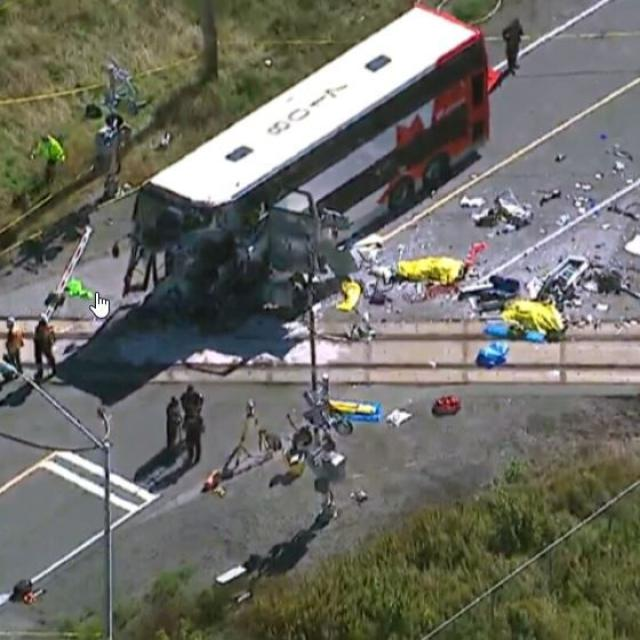traffic_incident: (115, 6, 492, 314)
